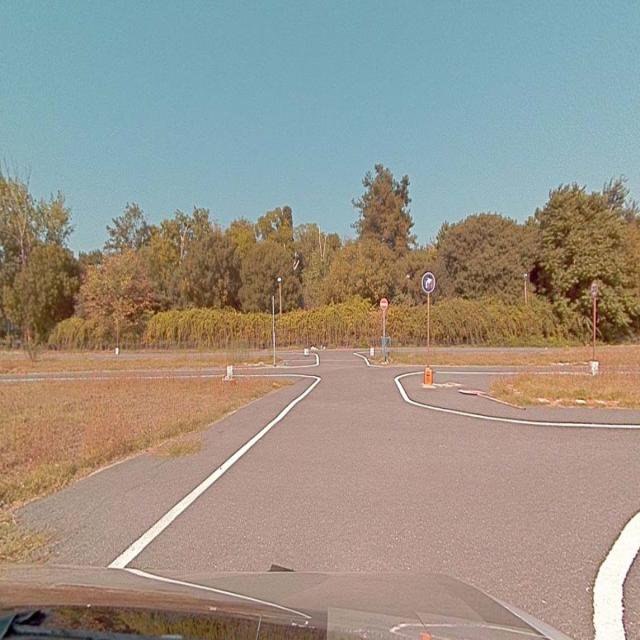girisyok: (380, 298, 388, 311)
sag: (422, 272, 436, 292)
